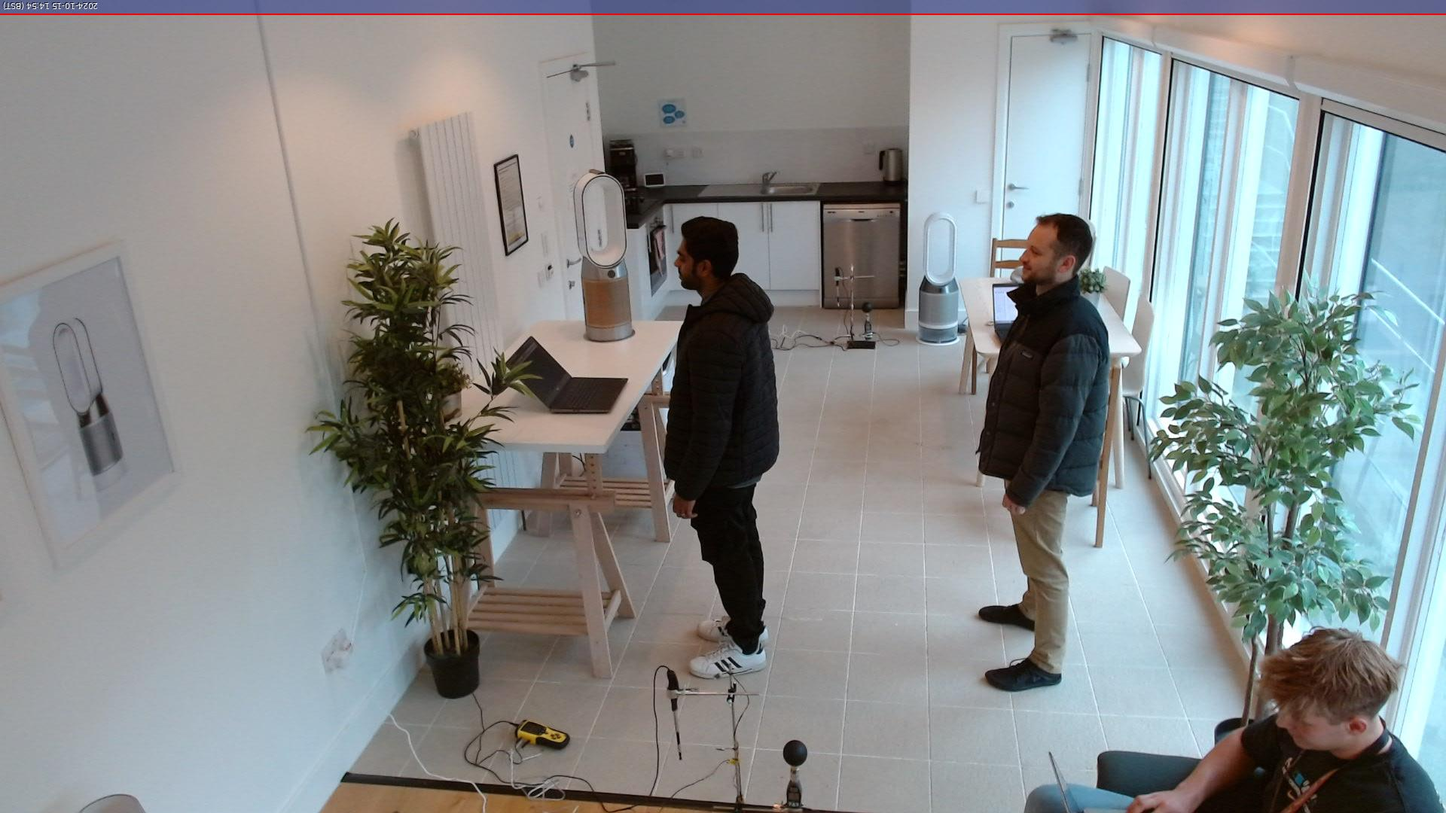coat: (975, 287, 1111, 509), (661, 273, 782, 489)
short sleeve shirt: (1237, 703, 1446, 813)
trousers: (1005, 474, 1075, 672), (688, 480, 767, 654), (1022, 780, 1156, 813)
